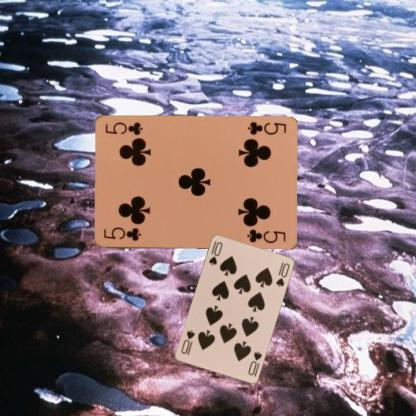10s: (206, 238, 224, 266), (245, 349, 263, 376)
5c: (101, 224, 142, 242), (244, 120, 288, 136)
